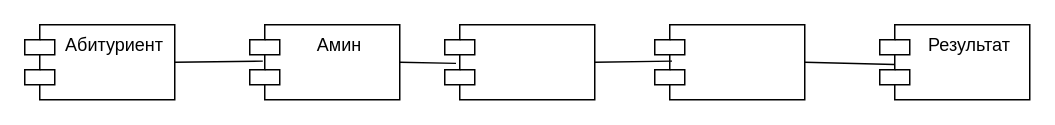
This 1055x125 diagram has some shape labels left out. Here are the shapes that lost their labels. From the top down, the centre of each, then its label:
At (519,61): "Ведомость".
At (729,61): "Система".
